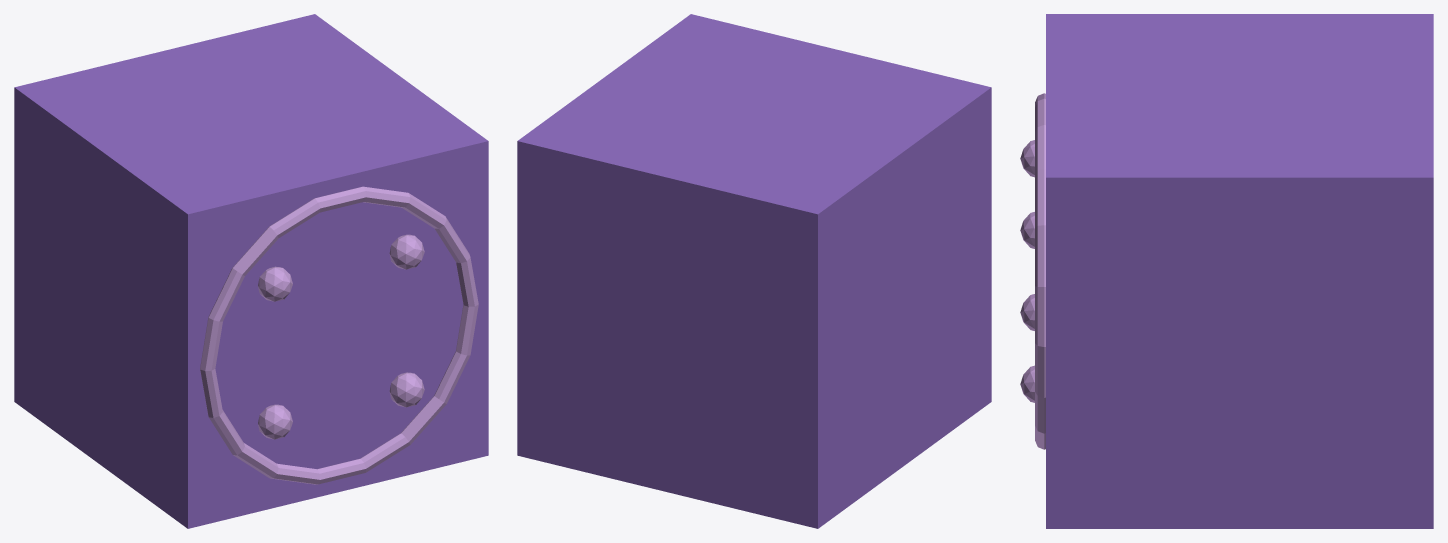
File: sog.glb
The picture shows the model from 3 angles, left to right: view 1: azimuth 30°, elevation 25°; view 2: azimuth 150°, elevation 25°; view 3: azimuth 270°, elevation 25°; orthographic projection. The views are drawn at different scales.
Parts seen in each view (by area): view 1: world; view 2: world; view 3: world.
Part boxes in pixels (x1,y1,x2,y2): world: [14, 14, 488, 528]; world: [517, 14, 991, 528]; world: [1020, 14, 1433, 528].
Size of the model in its own units: 1.05 by 1.05 by 1.12.
